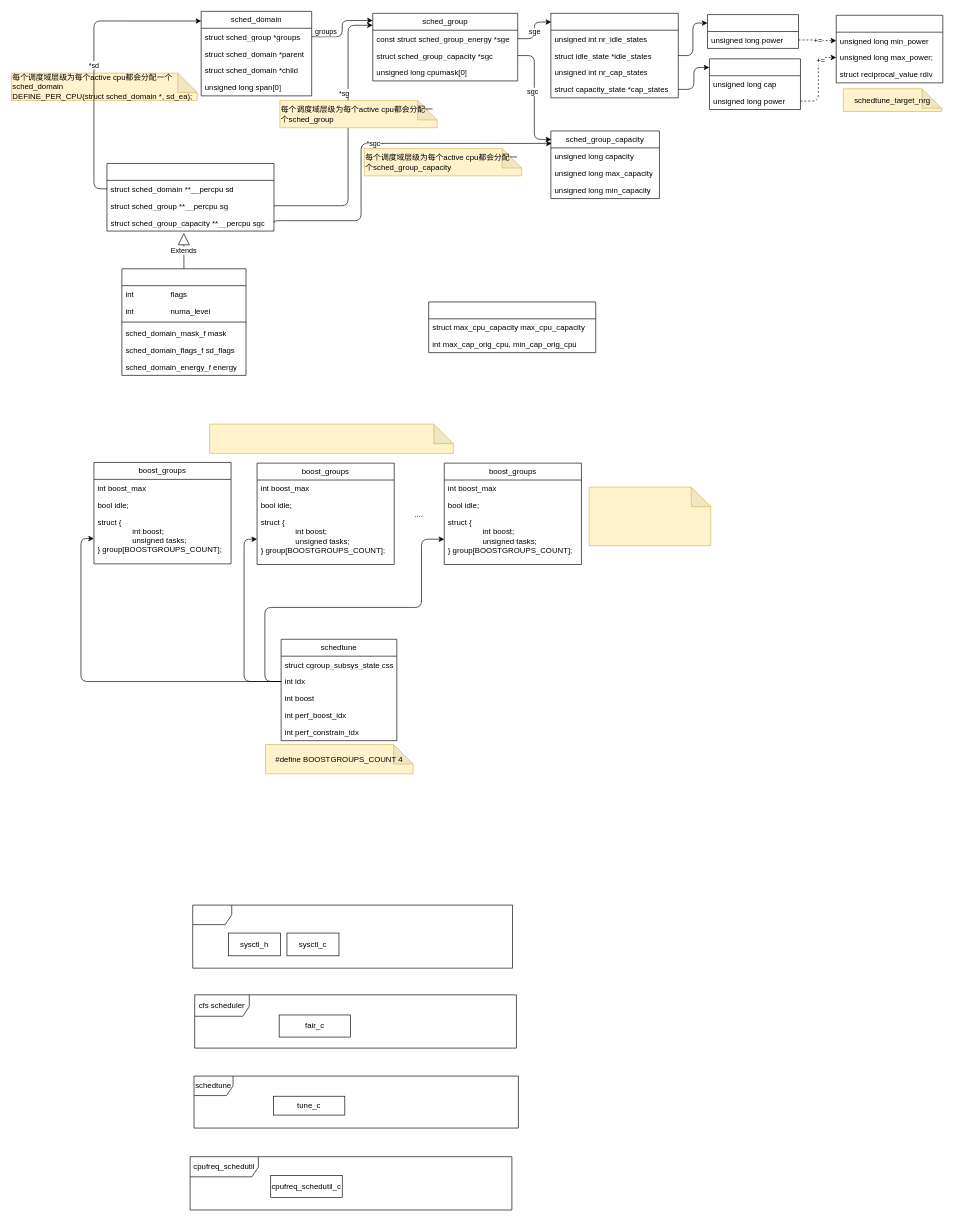
The diagram is 954 pixels wide and 1221 high, and some of its shapes have lost their labels. The box of each missing label's shape, as (x1, y1, x2, y2) in pixels:
.... static DEFINE_PER_CPU(struct boost_groups, cpu_boost_groups): (209, 423, 453, 453)
capacity_state: (709, 58, 800, 110)
idle_state: (707, 14, 799, 48)
root_domain: (428, 301, 596, 353)
sched_domain_topology_level: (121, 268, 246, 375)
sched_group_energy: (550, 13, 678, 98)
sd_data: (106, 163, 274, 231)
sysfs: (192, 904, 513, 968)
target_nrg: (836, 15, 943, 83)
对于某个schedtune cgroup组，它会在每个cpu的boost_groups中都有一个group，且索引相同: (589, 487, 711, 546)
